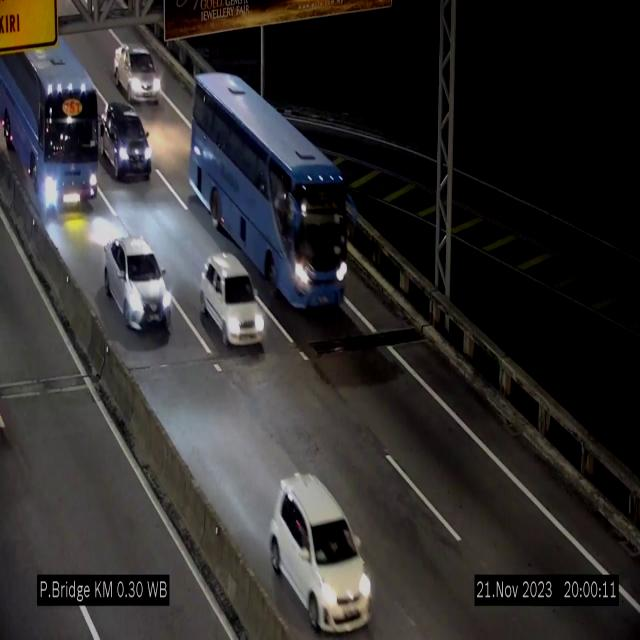Bus: (188, 69, 356, 319), (1, 36, 99, 210)
Car: (270, 474, 372, 632), (104, 236, 172, 332), (200, 254, 266, 348), (100, 101, 152, 180), (113, 44, 161, 102)
